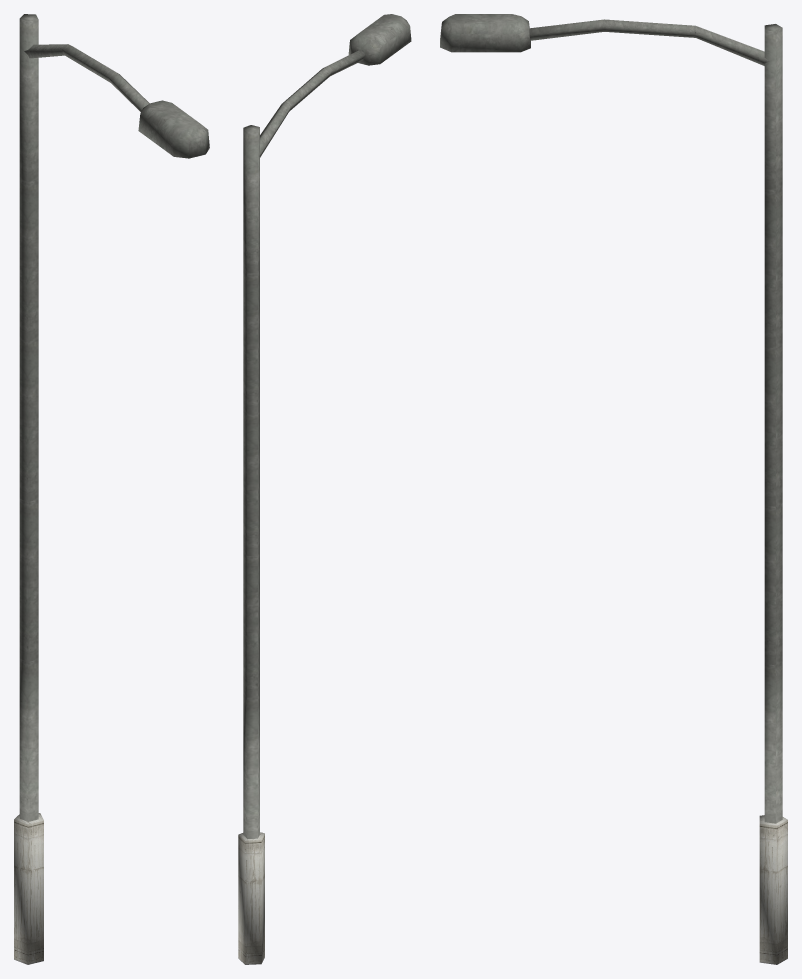
Rendered from Lampost.fbx.
The picture shows the model from 3 angles, left to right: view 1: azimuth 30°, elevation 25°; view 2: azimuth 150°, elevation 25°; view 3: azimuth 270°, elevation 25°; orthographic projection. The views are drawn at different scales.
Visible parts, largest first — view 1: Lamppost_001.004; view 2: Lamppost_001.004; view 3: Lamppost_001.004.
Boxes of the visible parts, x1,y1,x2,y2 form: Lamppost_001.004: (14, 14, 209, 964); Lamppost_001.004: (238, 14, 411, 964); Lamppost_001.004: (440, 14, 787, 964).
Size of the model in its own units: 34.41 by 864 by 290.
